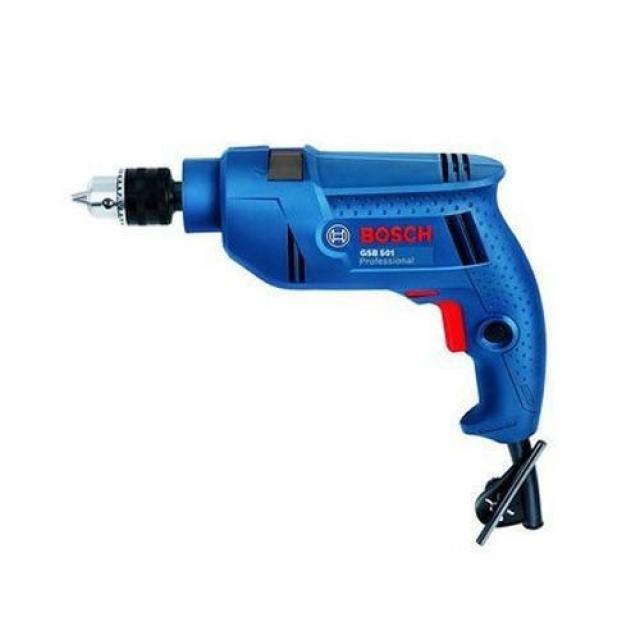drill: (71, 142, 549, 548)
